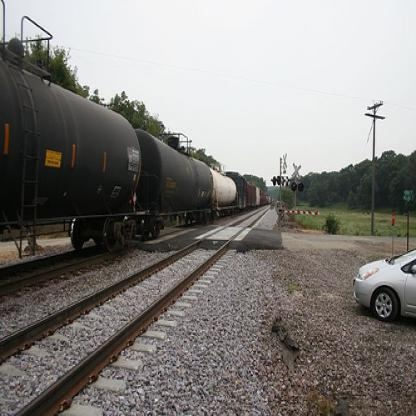car: (353, 246, 415, 322)
train: (0, 0, 271, 260)
